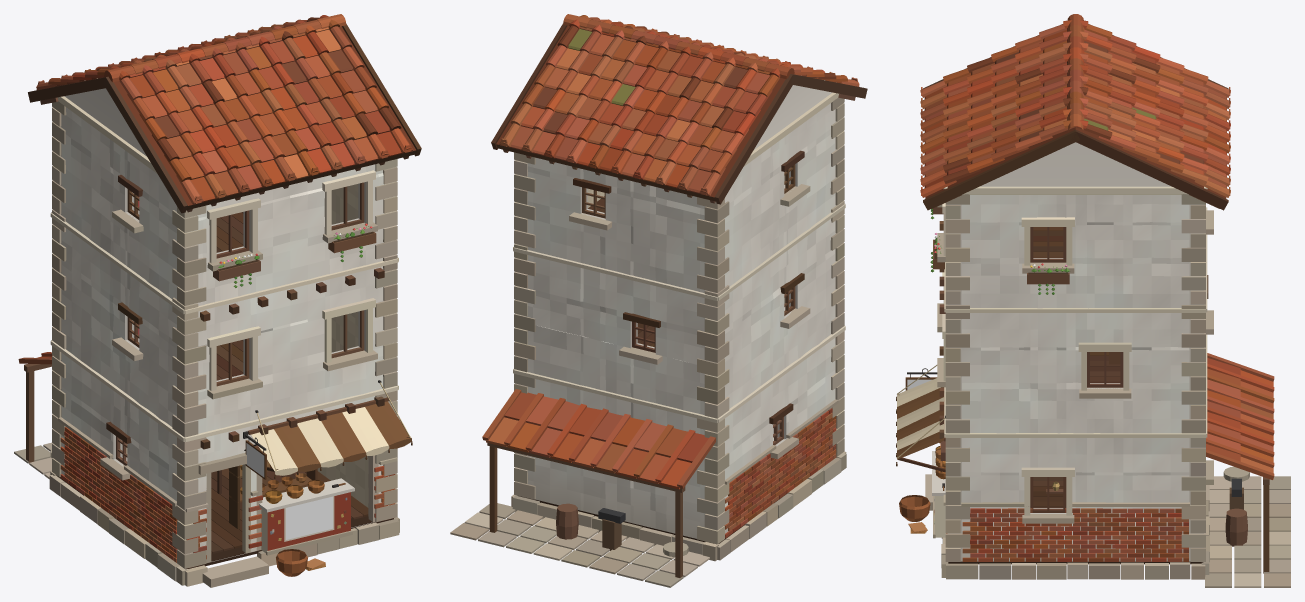
The model's file is artisan_2_3.glb.
The picture shows the model from 3 angles, left to right: view 1: azimuth 30°, elevation 25°; view 2: azimuth 150°, elevation 25°; view 3: azimuth 270°, elevation 25°; orthographic projection. The views are drawn at different scales.
Parts seen in each view (by area): view 1: House, Walls, Rooms; view 2: House, Walls; view 3: House, Walls, Rooms.
Boxes of the visible parts, x1,y1,x2,y2 form: House: (14,14,421,587); Walls: (60,88,394,561); Rooms: (126,184,368,554); House: (450,14,867,587); Walls: (517,85,836,538); House: (896,14,1290,587); Walls: (948,142,1203,561); Rooms: (1033,227,1120,507).
Size of the model in its own units: 4.28 by 7.68 by 6.01.
7 materials, 7 textured.
